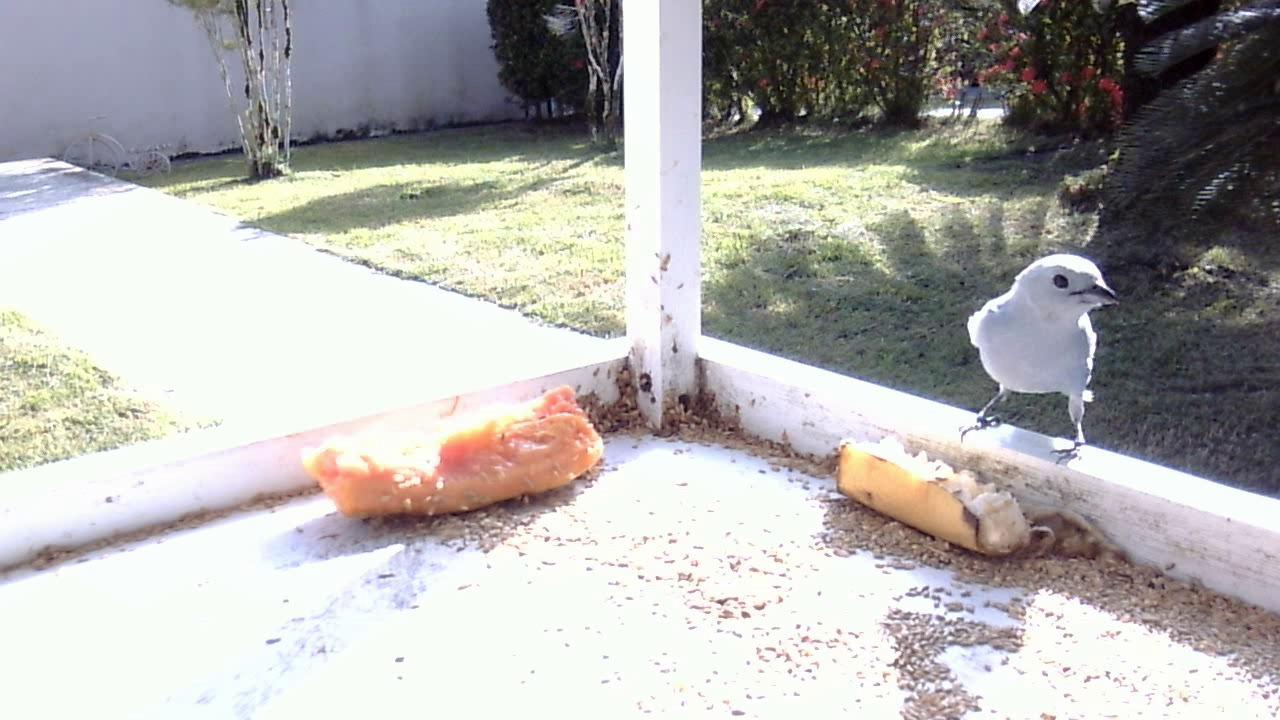sanhaco_da_amazonia: (955, 244, 1123, 467)
